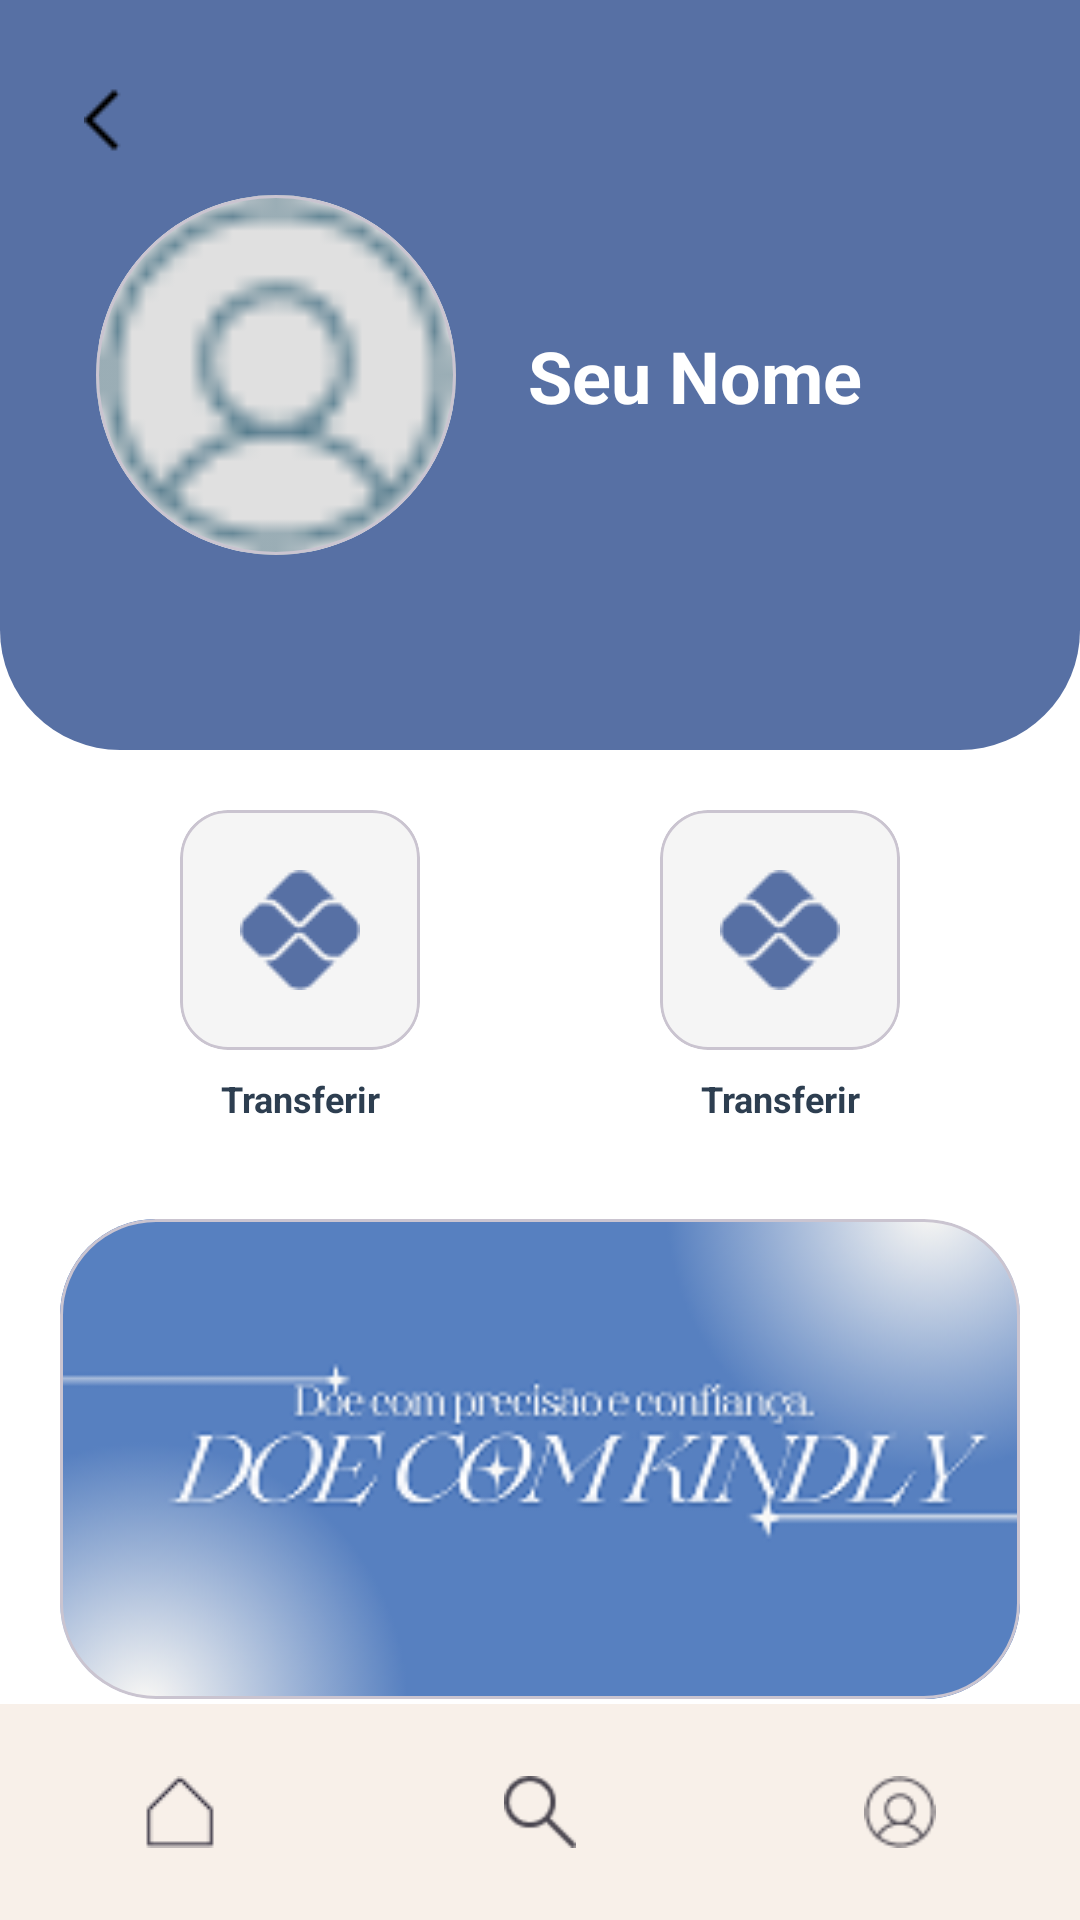

Named icons in this screenshot (1080x1920) and their centers, (x=x, y=y):
back arrow: (x=101, y=120)
